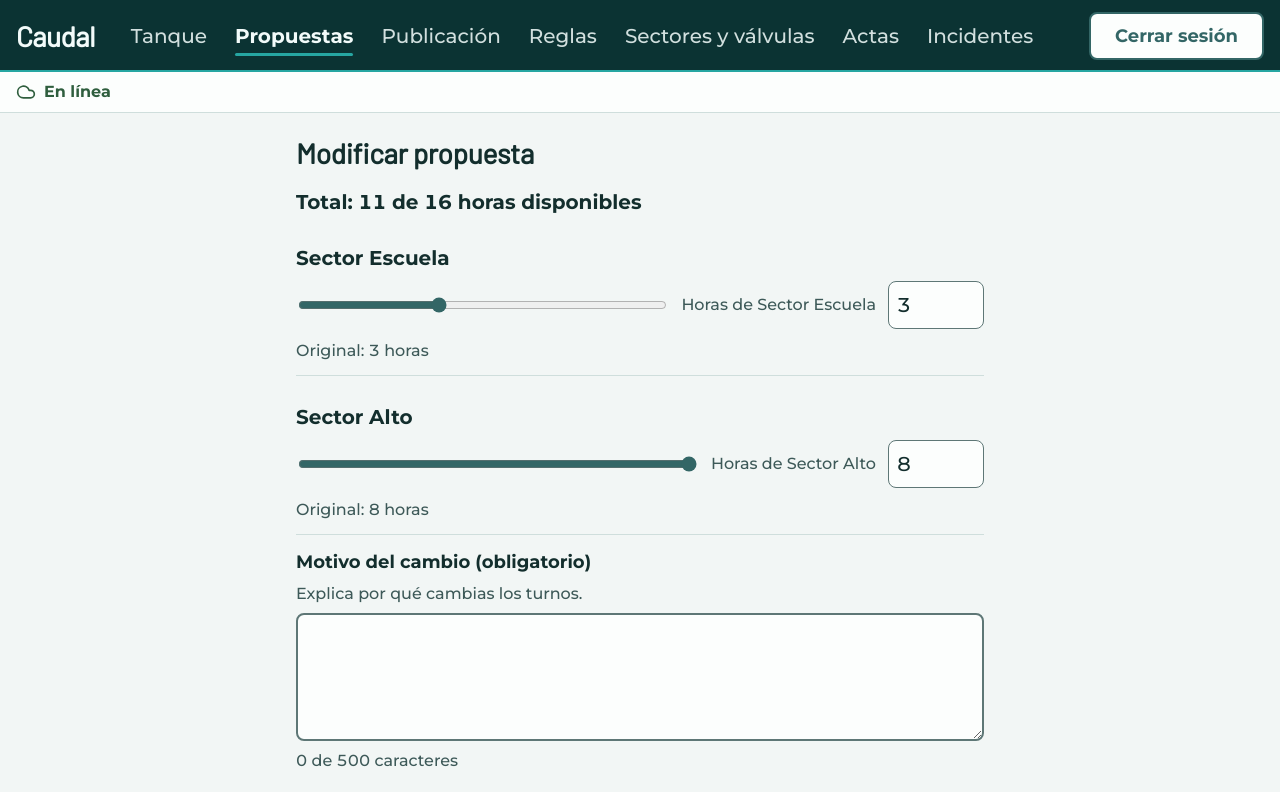
Test: ProposalEditorPage (S14) live validation › shows the total against the available hours and blocks a total above them
Expected: the text "Total: 11 de 16 horas disponibles" is shown, [296,190,642,214]
Replace the text in the number field labelled "Horas de Sector Alto" with "14": [936, 464] box [888,440,984,488]
(page scrolled)
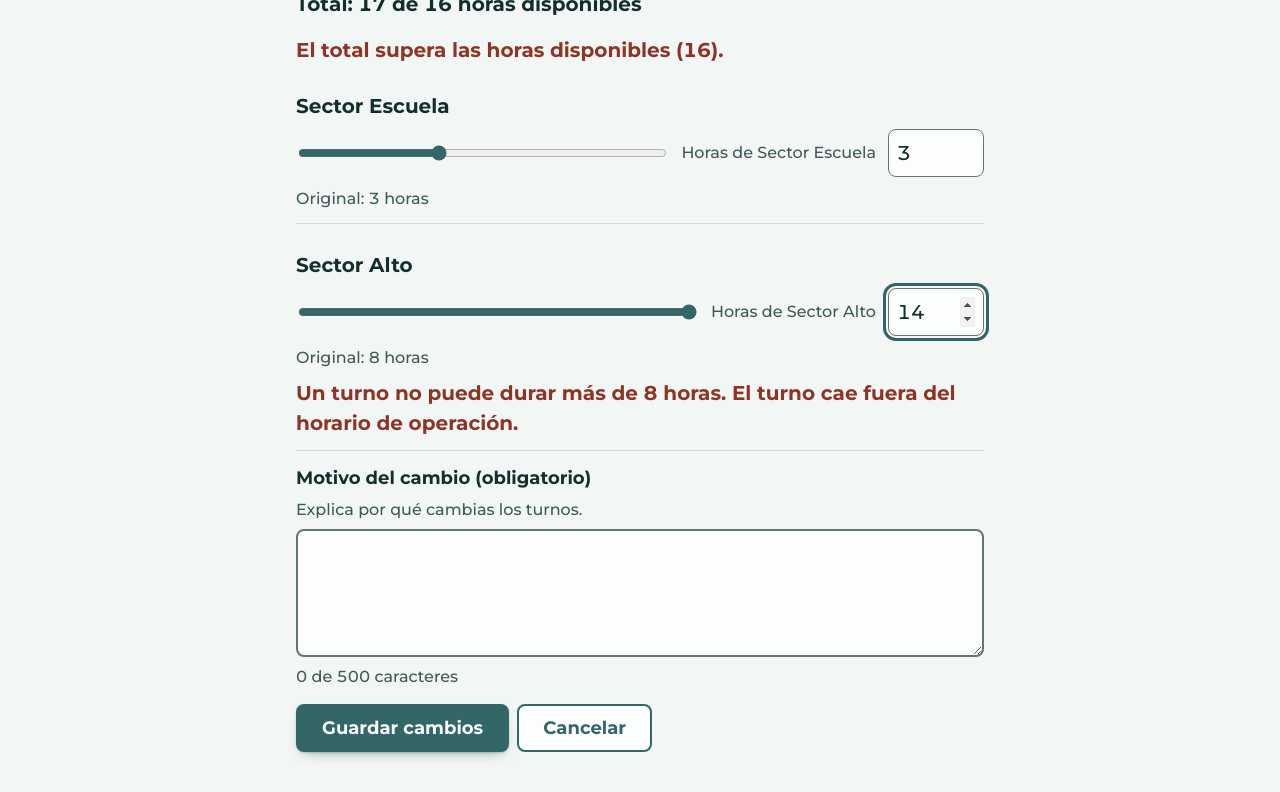
Expected: the text "El total supera las horas disponibles (16)." is shown, [296,38,724,62]
